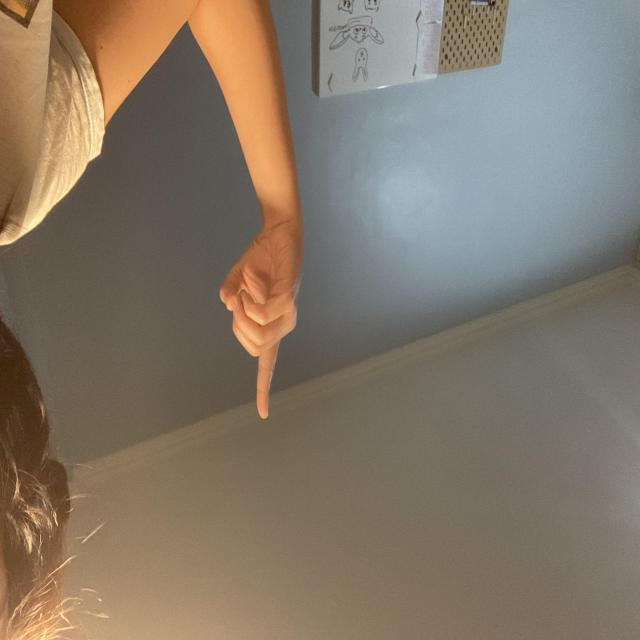D: (335, 220, 421, 419)
